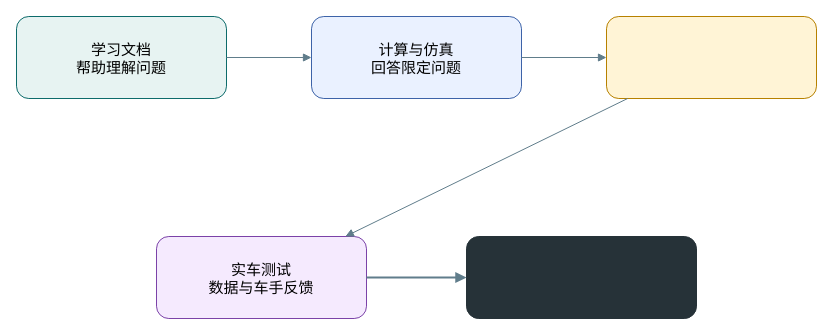
Image size: 833x335. Some labels were removed from this diagram. Here are the shapes that lost their labels. From the top down, the box of each, then its label:
(606, 16, 816, 98): 工程评审 检查规则、制造、风险
(466, 236, 696, 318): 设计责任 由使用者独立承担
